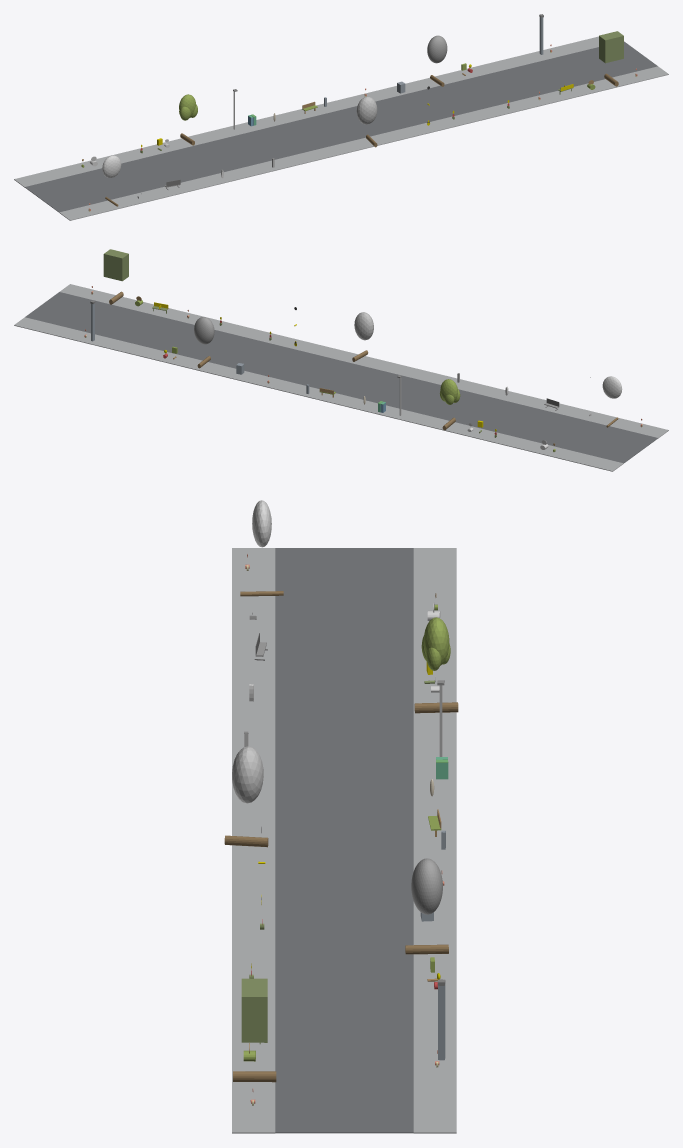
The picture shows the model from 3 angles, top to bottom: view 1: azimuth 30°, elevation 25°; view 2: azimuth 150°, elevation 25°; view 3: azimuth 270°, elevation 25°; orthographic projection. The views are drawn at different scales.
Parts seen in each view (by area): view 1: road_slab, sidewalk_left, sidewalk_right, inst_0016, inst_0015, inst_0014, inst_0013, inst_0012; view 2: road_slab, sidewalk_right, sidewalk_left, inst_0016, inst_0014, inst_0015, inst_0013, inst_0012; view 3: road_slab, sidewalk_left, sidewalk_right, inst_0016, inst_0014, inst_0015, inst_0013, inst_0012.
Boxes of the visible parts, box(x1,y1,x2,y2) form: road_slab: box(24, 41, 657, 212); sidewalk_left: box(59, 66, 668, 220); sidewalk_right: box(14, 36, 598, 187); inst_0016: box(599, 31, 623, 86); inst_0015: box(427, 35, 447, 86); inst_0014: box(356, 96, 377, 147); inst_0013: box(179, 94, 197, 145); inst_0012: box(102, 155, 121, 206); road_slab: box(25, 292, 658, 463); sidewalk_right: box(14, 317, 623, 471); sidewalk_left: box(59, 284, 668, 438); inst_0016: box(103, 249, 128, 304); inst_0014: box(352, 312, 373, 361); inst_0015: box(194, 317, 214, 368); inst_0013: box(439, 379, 460, 430); inst_0012: box(602, 376, 622, 427); road_slab: box(275, 548, 413, 1133); sidewalk_left: box(232, 548, 275, 1133); sidewalk_right: box(413, 548, 456, 1133); inst_0016: box(233, 978, 276, 1082); inst_0014: box(224, 746, 268, 847); inst_0015: box(405, 858, 448, 954); inst_0013: box(414, 617, 458, 713); inst_0012: box(240, 500, 283, 596).
Bounding box in the file's own units: 80 × 6.08 × 13.51.
